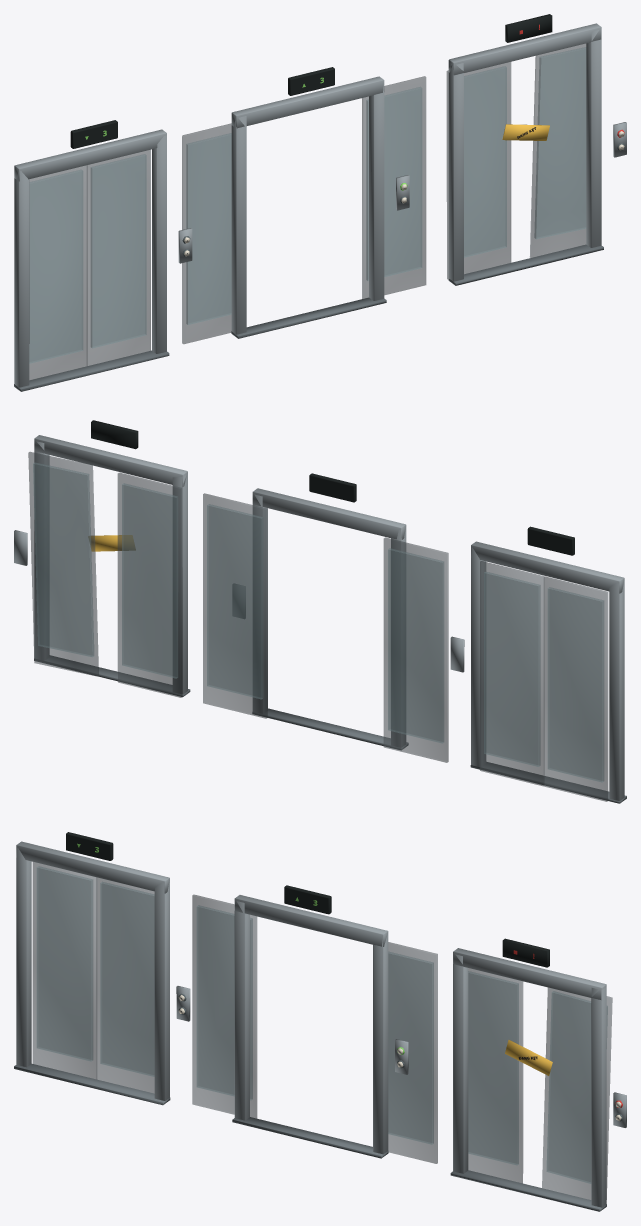
Rendered from cua_thang.glb.
3 views of the same model, one above another, from view 1: azimuth 30°, elevation 25°; view 2: azimuth 150°, elevation 25°; view 3: azimuth 330°, elevation 25° (orthographic).
Visible parts, largest first — view 1: w_canh_cua_dong, w_canh_cua_ket, w_canh_cua_mo, w_khung_cua_ket, w_khung_cua_mo, w_khung_cua_dong, w_den_tang_dong, w_den_tang_ket, w_den_tang_mo, w_bien_ket_ket; view 2: w_canh_cua_ket, w_canh_cua_mo, w_canh_cua_dong, w_khung_cua_dong, w_khung_cua_mo, w_khung_cua_ket, w_den_tang_mo, w_den_tang_dong, w_den_tang_ket, w_bien_ket_ket; view 3: w_canh_cua_dong, w_canh_cua_ket, w_canh_cua_mo, w_khung_cua_mo, w_khung_cua_ket, w_khung_cua_dong, w_den_tang_mo, w_den_tang_dong, w_den_tang_ket, w_bien_ket_ket.
Part boxes in pixels (x1,y1,x2,y2): w_canh_cua_dong: [29, 149, 150, 379]; w_canh_cua_ket: [446, 43, 586, 279]; w_canh_cua_mo: [182, 76, 426, 343]; w_khung_cua_ket: [448, 23, 603, 285]; w_khung_cua_mo: [231, 76, 386, 338]; w_khung_cua_dong: [14, 129, 169, 391]; w_den_tang_dong: [70, 120, 117, 148]; w_den_tang_ket: [505, 14, 552, 42]; w_den_tang_mo: [288, 67, 334, 95]; w_bien_ket_ket: [502, 124, 549, 140]; w_canh_cua_ket: [28, 452, 182, 697]; w_canh_cua_mo: [203, 493, 448, 762]; w_canh_cua_dong: [480, 561, 608, 801]; w_khung_cua_dong: [470, 541, 626, 803]; w_khung_cua_mo: [252, 488, 408, 750]; w_khung_cua_ket: [34, 435, 190, 697]; w_den_tang_mo: [309, 473, 356, 502]; w_den_tang_dong: [527, 526, 574, 555]; w_den_tang_ket: [91, 420, 138, 449]; w_bien_ket_ket: [89, 535, 135, 551]; w_canh_cua_dong: [32, 862, 154, 1093]; w_canh_cua_ket: [468, 968, 612, 1199]; w_canh_cua_mo: [192, 894, 437, 1163]; w_khung_cua_mo: [232, 895, 388, 1158]; w_khung_cua_ket: [450, 948, 606, 1211]; w_khung_cua_dong: [14, 841, 170, 1105]; w_den_tang_mo: [284, 885, 331, 914]; w_den_tang_dong: [66, 832, 113, 860]; w_den_tang_ket: [502, 938, 549, 967]; w_bien_ket_ket: [505, 1040, 552, 1075].
Size of the model in its own units: 6.71 by 2.61 by 0.1895.
